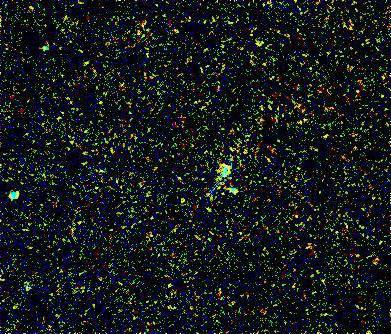star: (241, 29, 271, 59)
